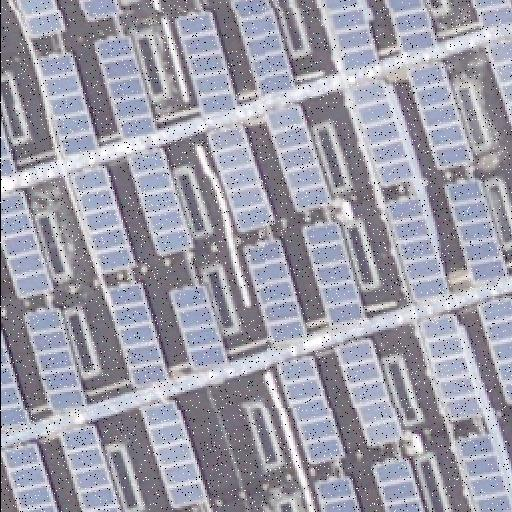solar-panel: (403, 62, 477, 174), (274, 355, 346, 469), (141, 396, 211, 512), (69, 166, 139, 278), (126, 150, 194, 262), (416, 314, 484, 426), (335, 335, 401, 449), (346, 81, 414, 191), (442, 177, 510, 287), (206, 124, 274, 232), (264, 104, 332, 212), (239, 237, 305, 347), (299, 220, 365, 328), (41, 52, 103, 160), (109, 282, 171, 390), (98, 33, 158, 143), (385, 199, 447, 305), (179, 12, 237, 120), (27, 308, 85, 412), (1, 189, 55, 299), (235, 0, 293, 100), (58, 422, 122, 512), (172, 286, 228, 374), (473, 295, 511, 409), (3, 440, 61, 512), (460, 432, 512, 512), (322, 0, 378, 72), (0, 324, 32, 432), (372, 456, 424, 512), (386, 0, 434, 56), (486, 43, 512, 133), (20, 0, 68, 44), (314, 473, 362, 511), (472, 0, 512, 32), (79, 0, 121, 26), (0, 112, 16, 180)
